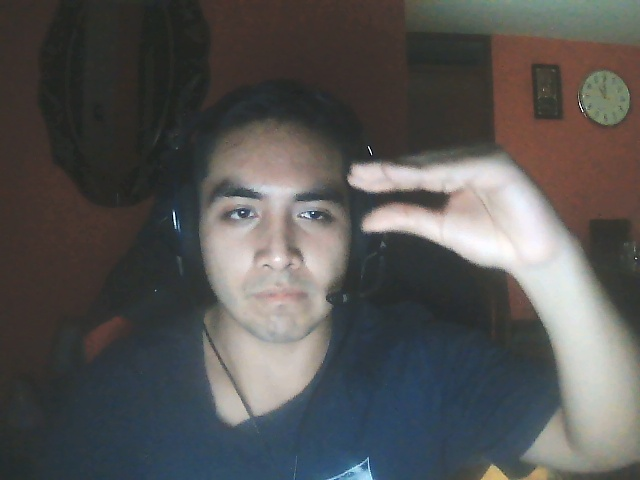no: (344, 135, 585, 265)
